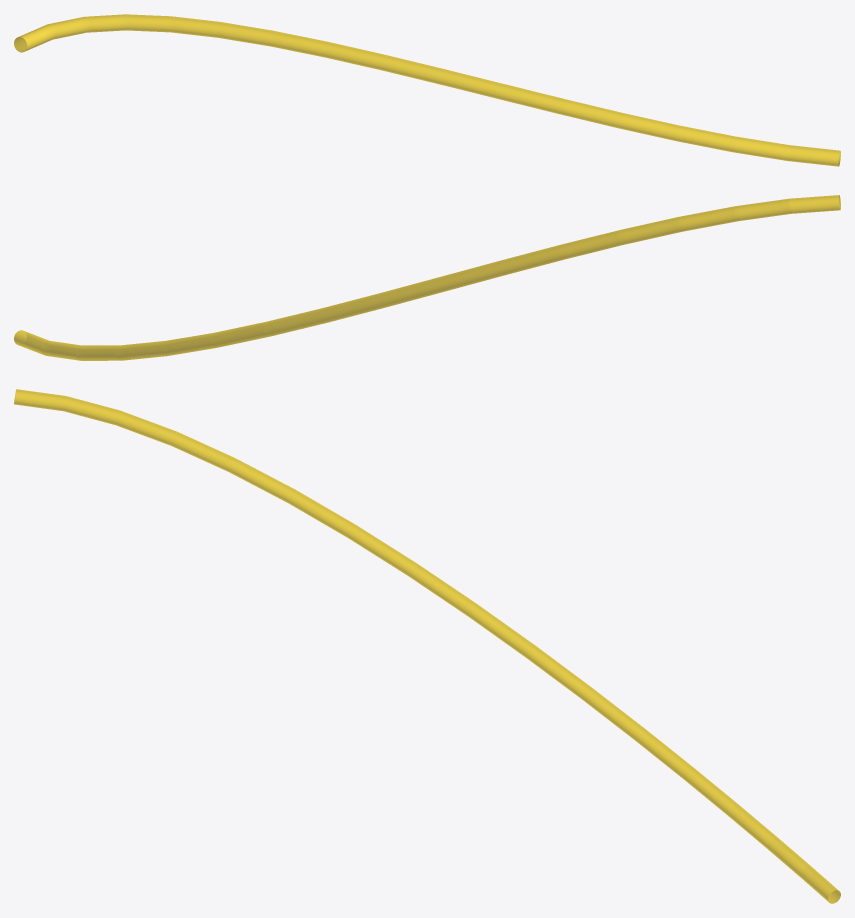
File: Event_27938768_track_59.fbx
The picture shows the model from 3 angles, top to bottom: view 1: azimuth 30°, elevation 25°; view 2: azimuth 150°, elevation 25°; view 3: azimuth 330°, elevation 25°; orthographic projection. The views are drawn at different scales.
Parts seen in each view (by area): view 1: Model; view 2: Model; view 3: Model.
Boxes of the visible parts, x1,y1,x2,y2 form: Model: (14,14,840,166); Model: (14,195,840,360); Model: (14,389,840,903).
Size of the model in its own units: 2.41 by 0.9463 by 0.3288.
